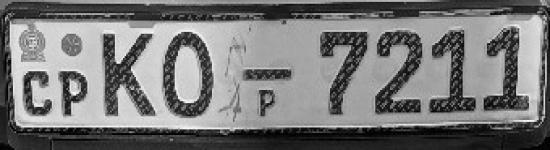-: (239, 66, 296, 83)
1: (483, 22, 534, 115), (430, 28, 478, 116)
2: (376, 29, 427, 115)
7: (318, 26, 372, 118)
C: (21, 64, 56, 120)
K: (95, 27, 158, 124)
O: (162, 30, 219, 124)
P: (58, 66, 91, 121)
